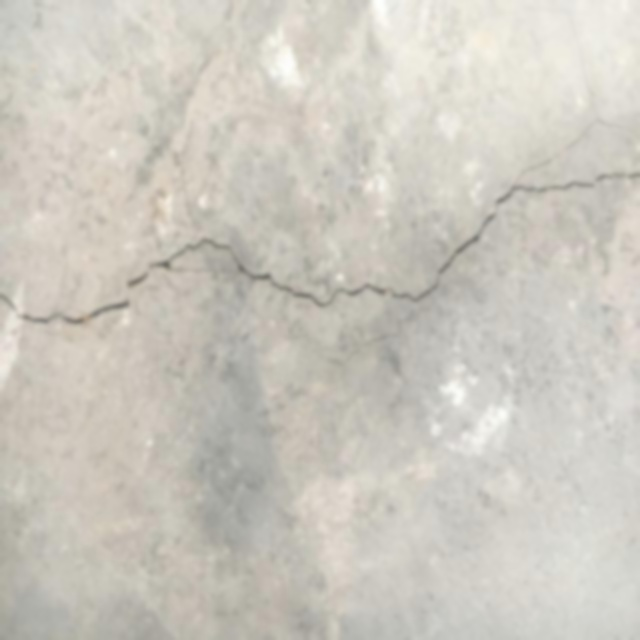SurfaceCrack: (0, 113, 638, 372)
